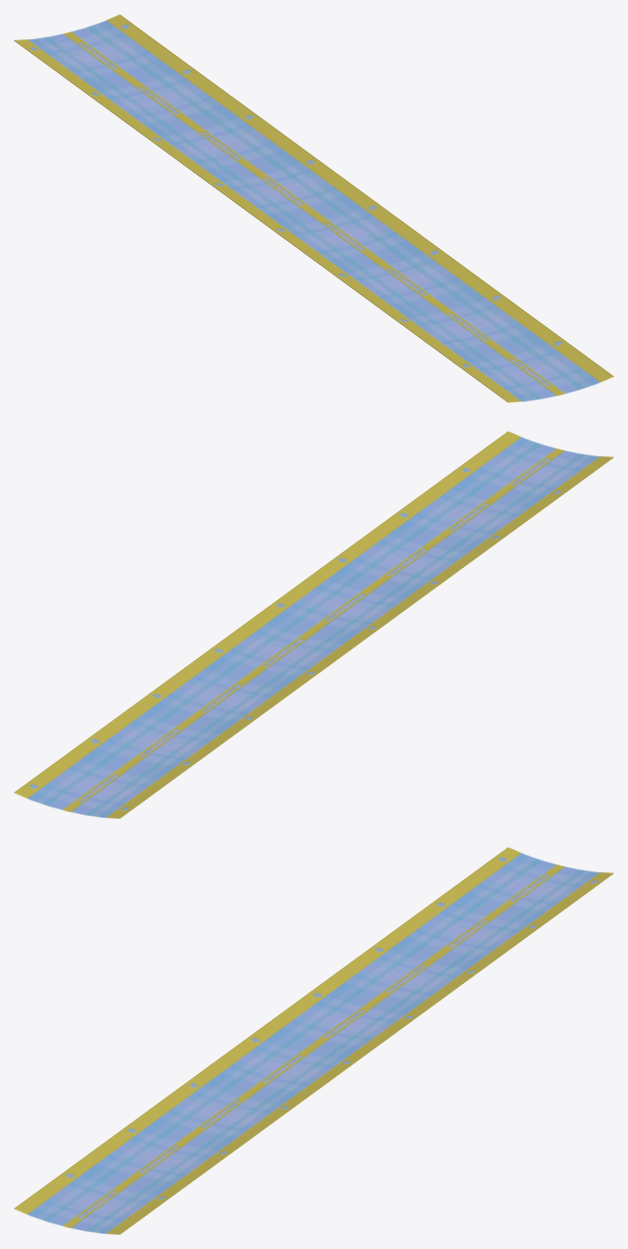
Rendered from dl_ribbonroad2_model_dl_ribbonroad2.001_lev3.glb.
The picture shows the model from 3 angles, top to bottom: view 1: azimuth 30°, elevation 25°; view 2: azimuth 150°, elevation 25°; view 3: azimuth 330°, elevation 25°; orthographic projection.
Visible parts, largest first — view 1: dl_ribbonroad2_model_dl_ribbonroad2.001_lev3; view 2: dl_ribbonroad2_model_dl_ribbonroad2.001_lev3; view 3: dl_ribbonroad2_model_dl_ribbonroad2.001_lev3.
Boxes of the visible parts, <box> form: dl_ribbonroad2_model_dl_ribbonroad2.001_lev3: <box>14,14,613,402</box>; dl_ribbonroad2_model_dl_ribbonroad2.001_lev3: <box>14,431,613,818</box>; dl_ribbonroad2_model_dl_ribbonroad2.001_lev3: <box>14,847,613,1234</box>.
Bounding box in the file's own units: 6.7 × 0.3832 × 53.88.
1 material, 1 textured.
